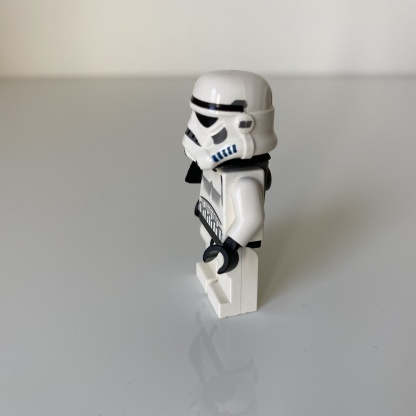sturmtruppler: (181, 70, 279, 318)
